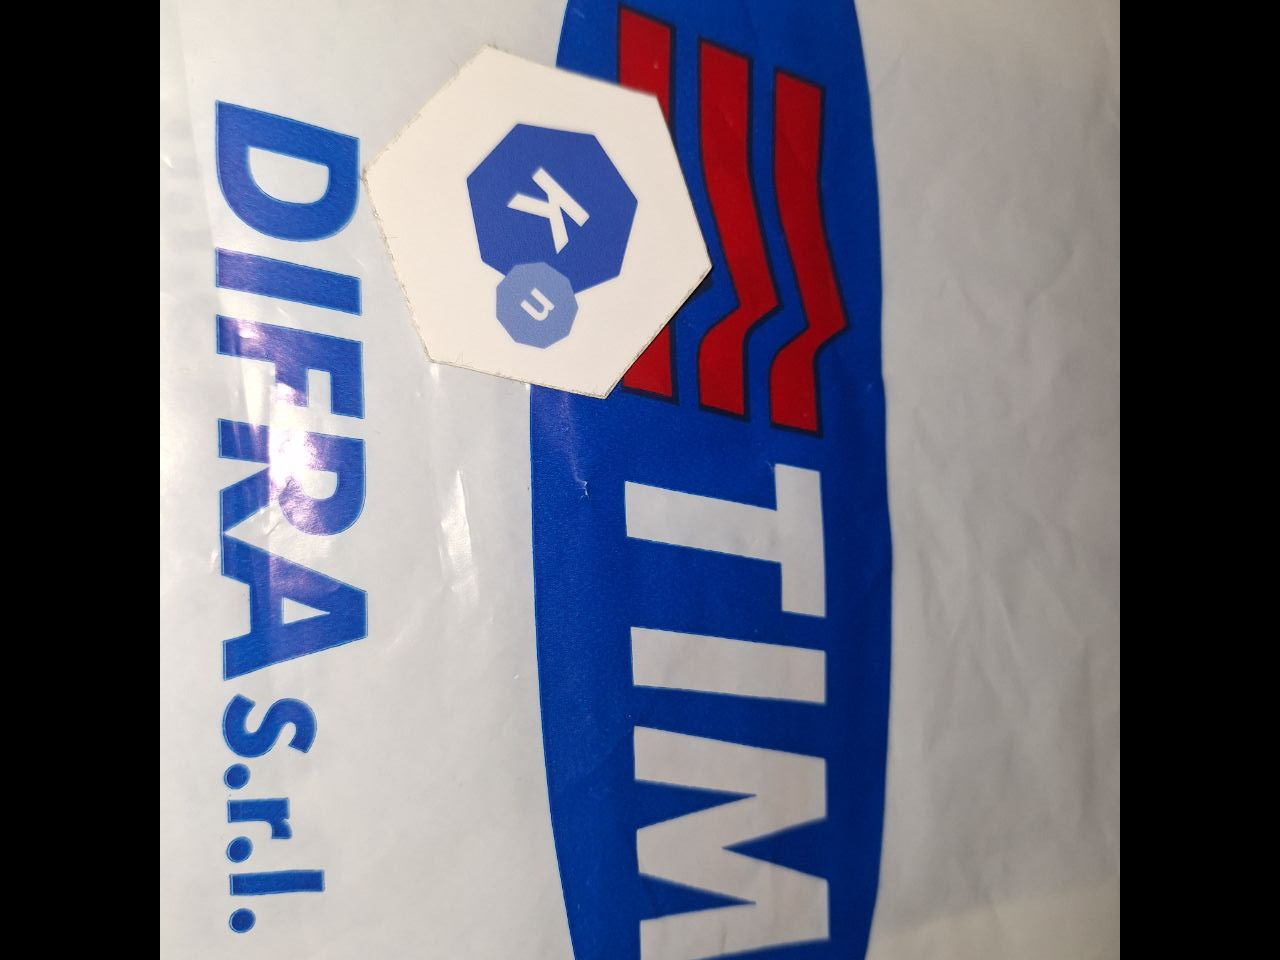knative: (466, 120, 642, 350)
